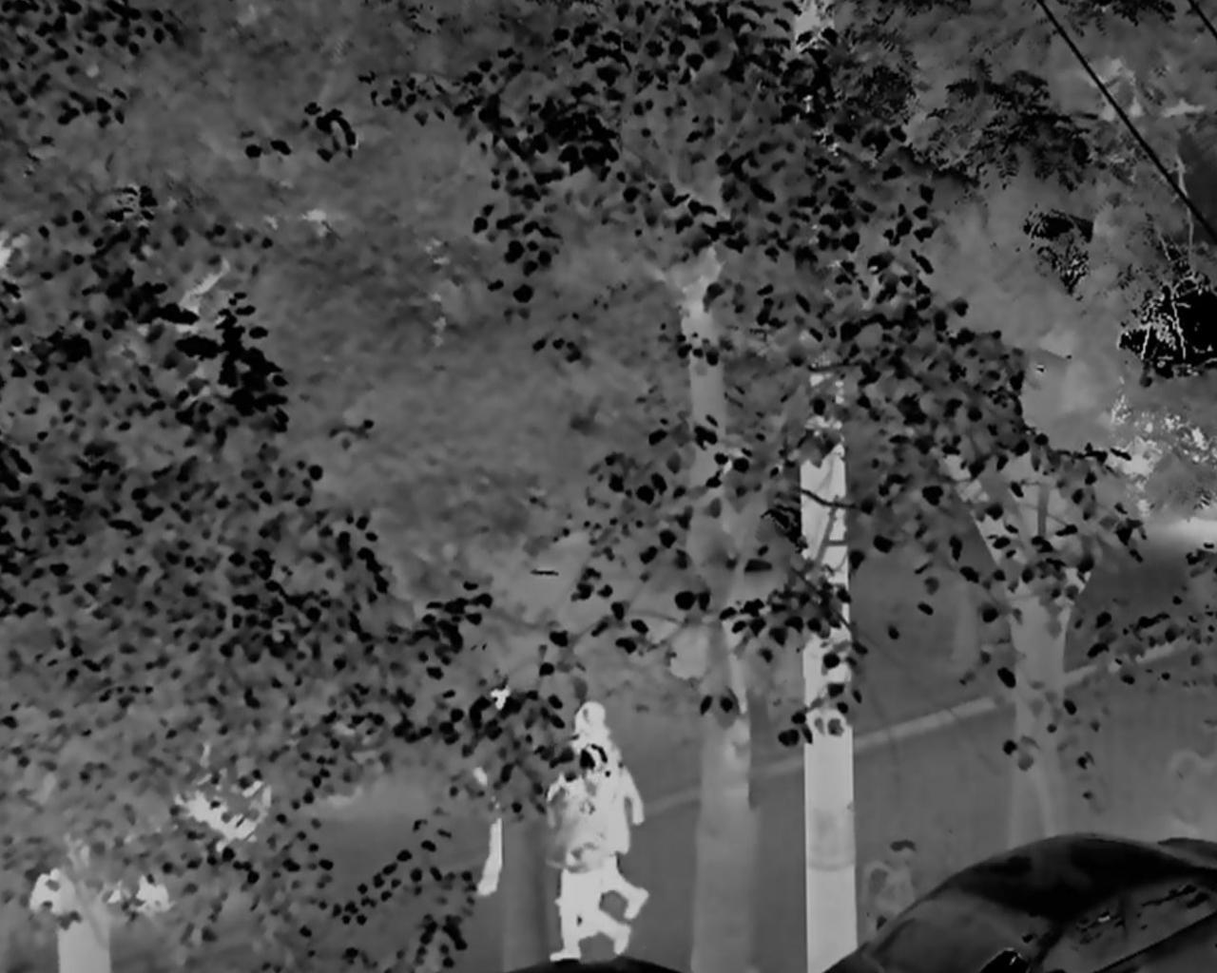person: (564, 699, 657, 921), (546, 765, 629, 973)
